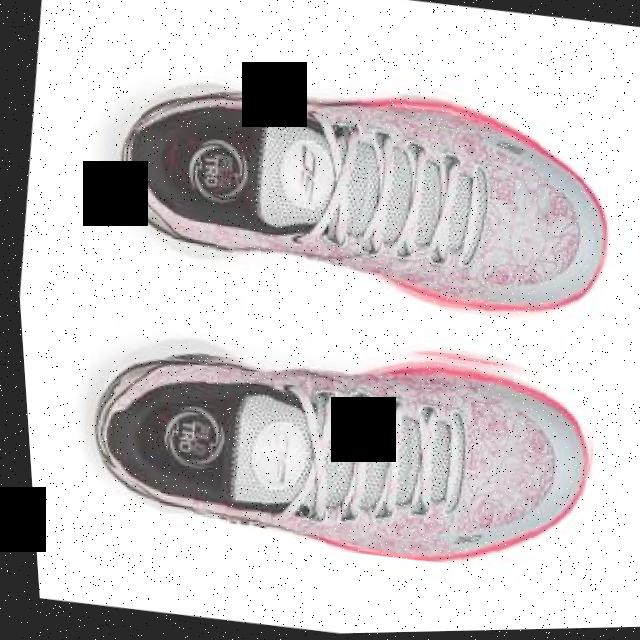shoe: (83, 36, 630, 341), (60, 297, 605, 591)
